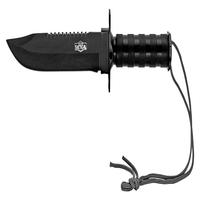knife: (4, 9, 183, 90)
